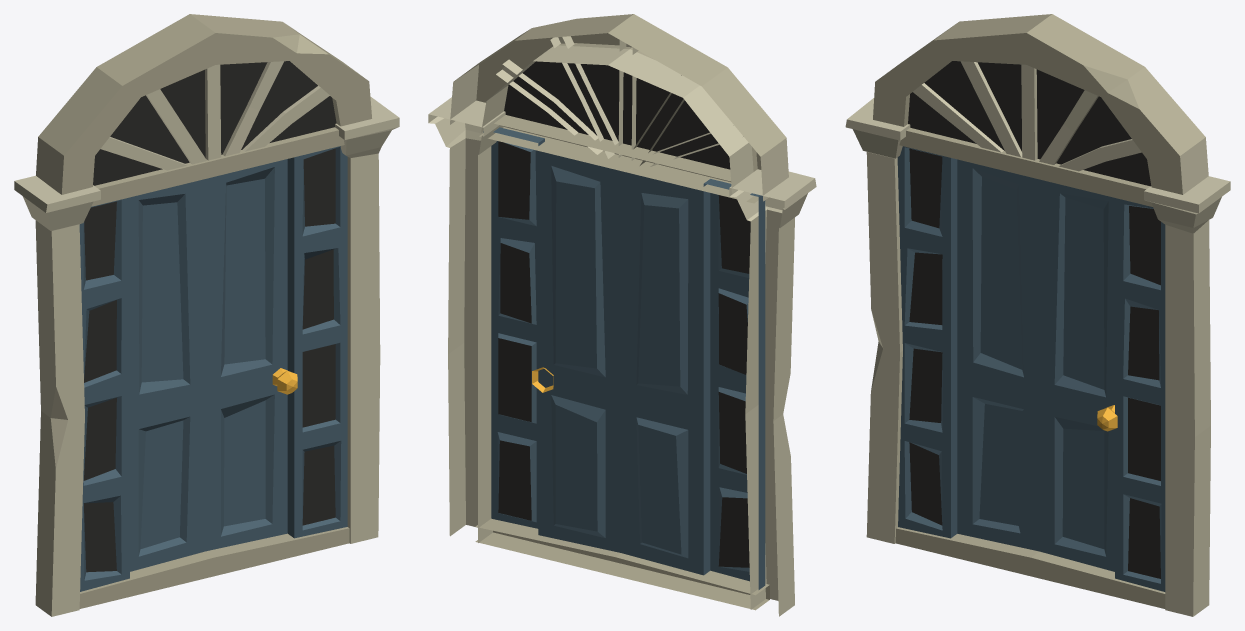
File: Door_2.fbx
The picture shows the model from 3 angles, left to right: view 1: azimuth 30°, elevation 25°; view 2: azimuth 150°, elevation 25°; view 3: azimuth 330°, elevation 25°; orthographic projection.
Visible parts, largest first — view 1: Door_2; view 2: Door_2; view 3: Door_2.
Part boxes in pixels (x1,y1,x2,y2): Door_2: [14, 14, 399, 616]; Door_2: [428, 14, 816, 616]; Door_2: [845, 14, 1230, 616].
Bounding box in the file's own units: 206 × 304 × 31.97.
